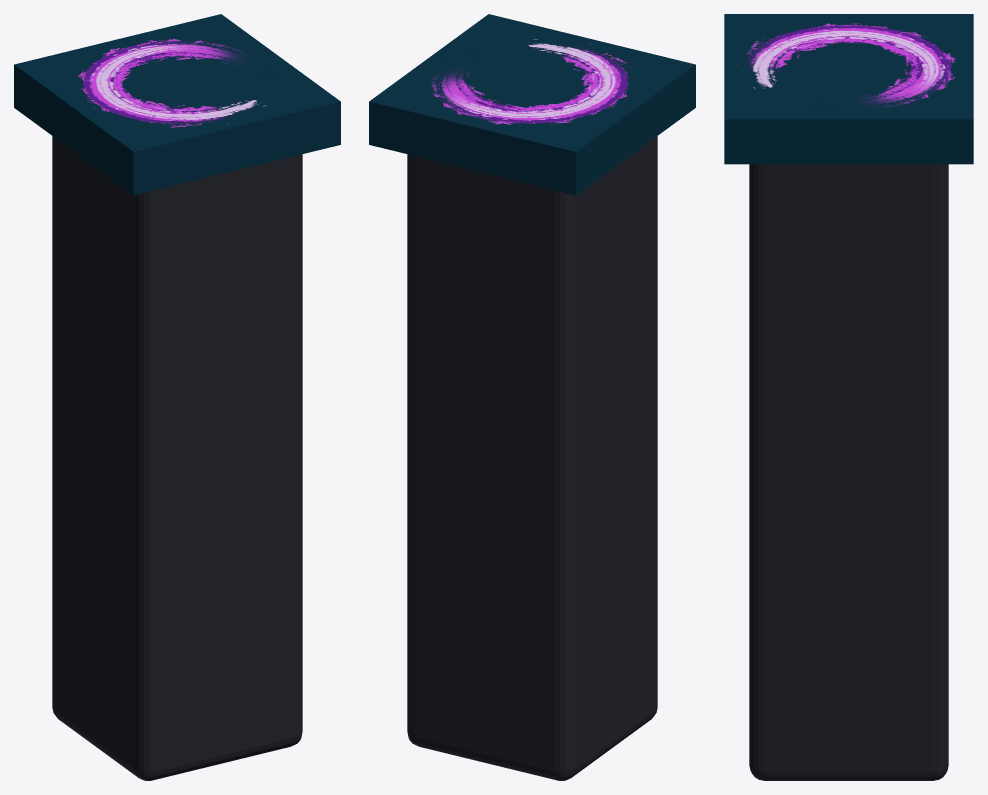
File: base_tower.glb
3 views of the same model, side by side, from view 1: azimuth 30°, elevation 25°; view 2: azimuth 150°, elevation 25°; view 3: azimuth 270°, elevation 25° (orthographic). The views are drawn at different scales.
Visible parts, largest first — view 1: Cube.001, Cube; view 2: Cube.001, Cube; view 3: Cube.001, Cube.
Boxes of the visible parts, bbox=[...] form: Cube.001: bbox=[52, 136, 302, 780]; Cube: bbox=[14, 14, 340, 195]; Cube.001: bbox=[407, 136, 657, 780]; Cube: bbox=[369, 14, 695, 195]; Cube.001: bbox=[749, 164, 948, 780]; Cube: bbox=[724, 14, 973, 164].
Bounding box in the file's own units: 1 × 3 × 1.
Materials: 2 (1 with a texture image).
